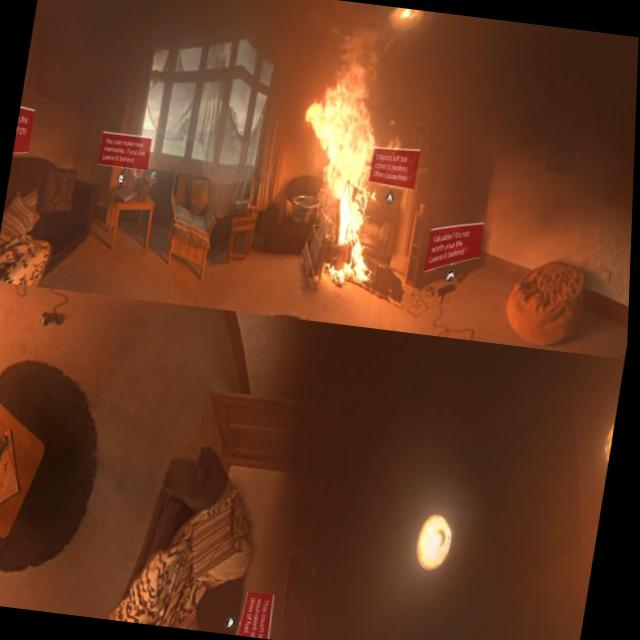fire: (273, 46, 409, 298)
